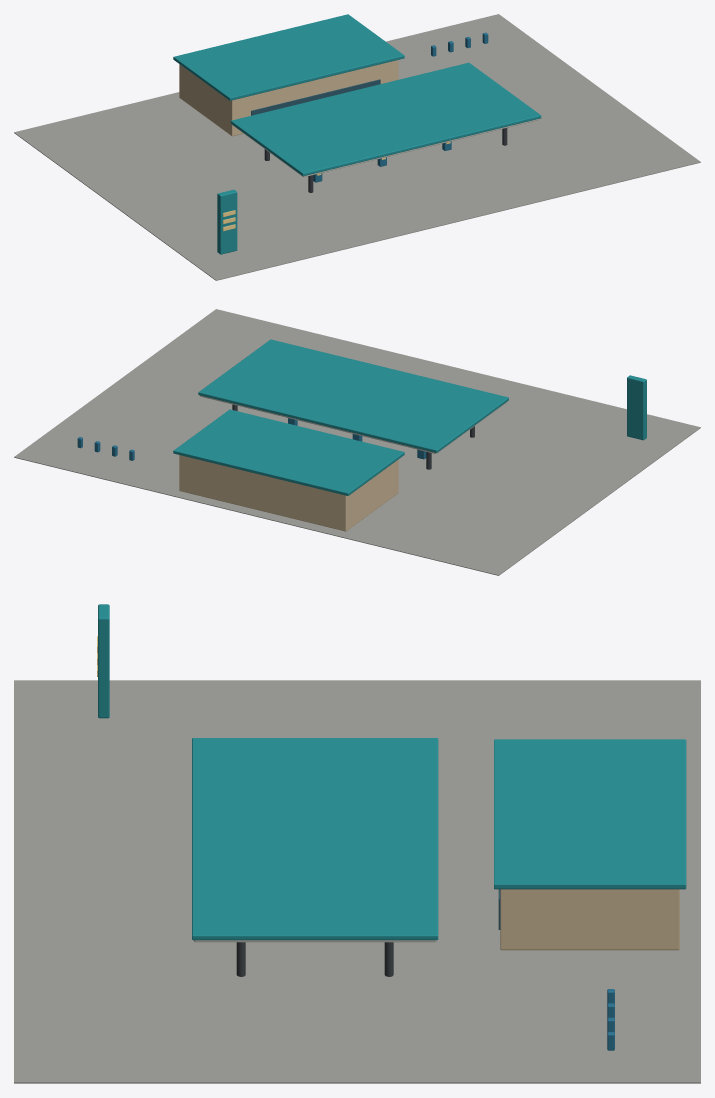
Rendered from rorng_city_infill_service_station_90x65.glb.
3 views of the same model, one above another, from view 1: azimuth 30°, elevation 25°; view 2: azimuth 150°, elevation 25°; view 3: azimuth 270°, elevation 25° (orthographic). The views are drawn at different scales.
Visible parts, largest first — view 1: rorng_city_infill_service_station_90x65_lod0; view 2: rorng_city_infill_service_station_90x65_lod0; view 3: rorng_city_infill_service_station_90x65_lod0.
Boxes of the visible parts, x1,y1,x2,y2 form: rorng_city_infill_service_station_90x65_lod0: (14, 14, 700, 280); rorng_city_infill_service_station_90x65_lod0: (14, 309, 700, 575); rorng_city_infill_service_station_90x65_lod0: (14, 604, 700, 1083).
Size of what is drawn, in the model's own units: 90 by 10.62 by 65.
